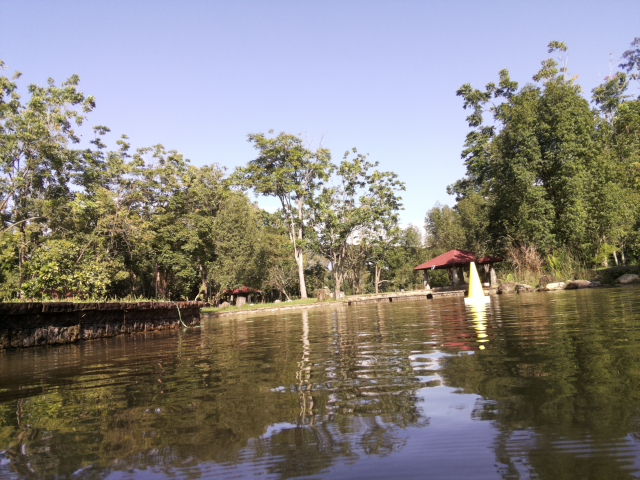checkpoint: (462, 261, 491, 306)
